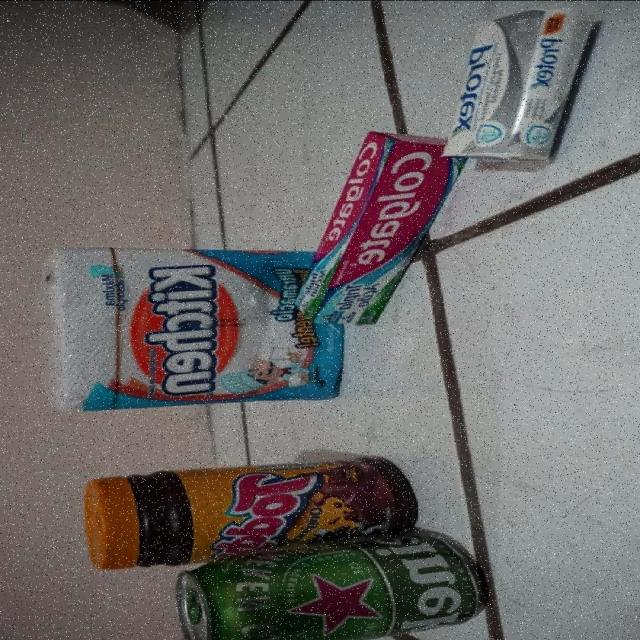BeerCan: (179, 549, 487, 640)
ChocolatePowder: (86, 459, 412, 545)
Napkin: (53, 246, 300, 411), (299, 130, 442, 326)
Soap: (445, 6, 599, 169)
